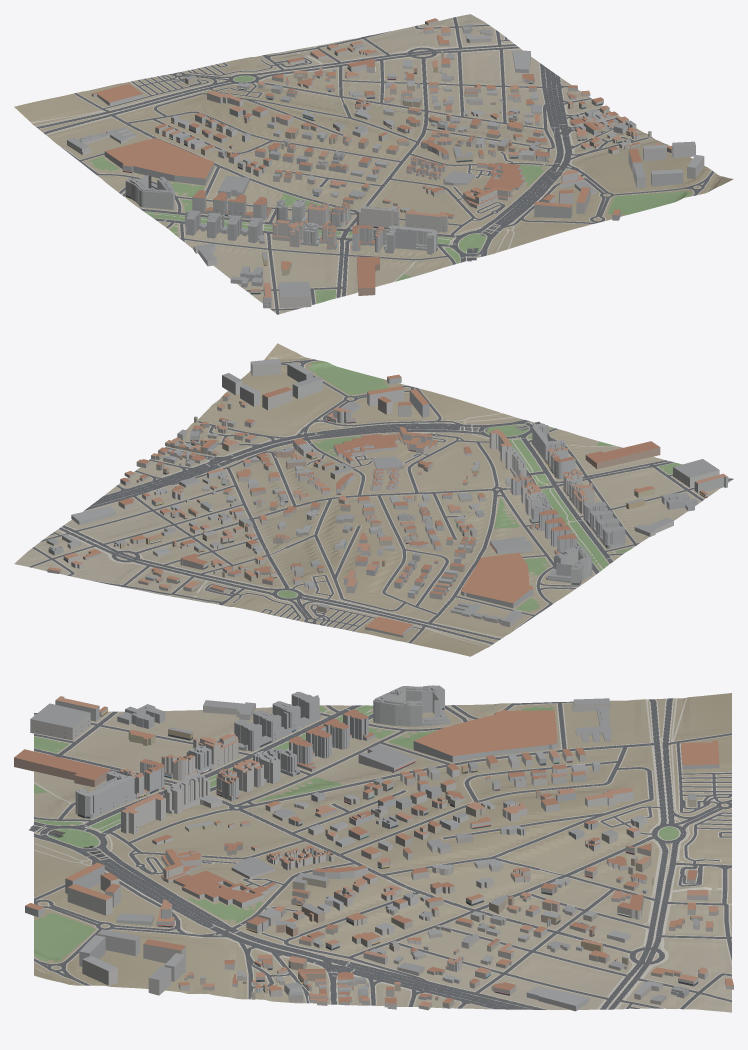
3 views of the same model, one above another, from view 1: azimuth 30°, elevation 25°; view 2: azimuth 150°, elevation 25°; view 3: azimuth 270°, elevation 25° (orthographic). The views are drawn at different scales.
Parts seen in each view (by area): view 1: Ground, Walls, Roofs, Road, Sidewalk, Park, Detail; view 2: Ground, Walls, Roofs, Road, Sidewalk, Park, Detail; view 3: Ground, Walls, Roofs, Road, Sidewalk, Park, Detail, Marks.
Part boxes in pixels (<box>): Ground: <box>14,14,733,313</box>; Walls: <box>67,20,704,308</box>; Roofs: <box>67,18,703,297</box>; Road: <box>36,17,714,314</box>; Sidewalk: <box>31,17,720,314</box>; Park: <box>89,76,692,303</box>; Detail: <box>123,53,631,306</box>; Ground: <box>14,343,730,656</box>; Walls: <box>46,362,727,637</box>; Roofs: <box>47,359,727,635</box>; Road: <box>29,359,733,644</box>; Sidewalk: <box>28,357,731,647</box>; Park: <box>278,361,682,612</box>; Detail: <box>63,419,707,597</box>; Ground: <box>34,693,731,1012</box>; Walls: <box>14,686,733,1011</box>; Roofs: <box>14,685,733,1006</box>; Road: <box>34,698,731,1009</box>; Sidewalk: <box>34,697,731,1009</box>; Park: <box>34,705,679,962</box>; Detail: <box>37,708,698,999</box>; Marks: <box>40,699,727,1007</box>.
Size of the model in its own units: 1093 by 64.16 by 1031.
